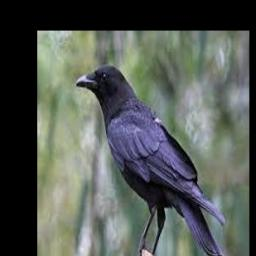Crow: (76, 64, 227, 256)
